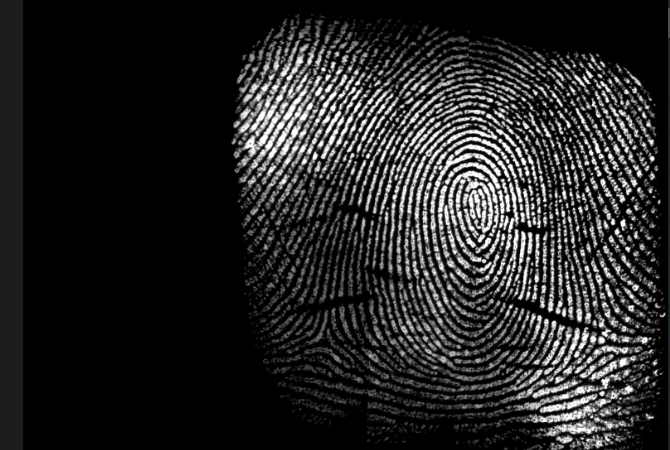deltas: (571, 305, 635, 375), (299, 302, 359, 363)
nucleo: (452, 176, 499, 237)
